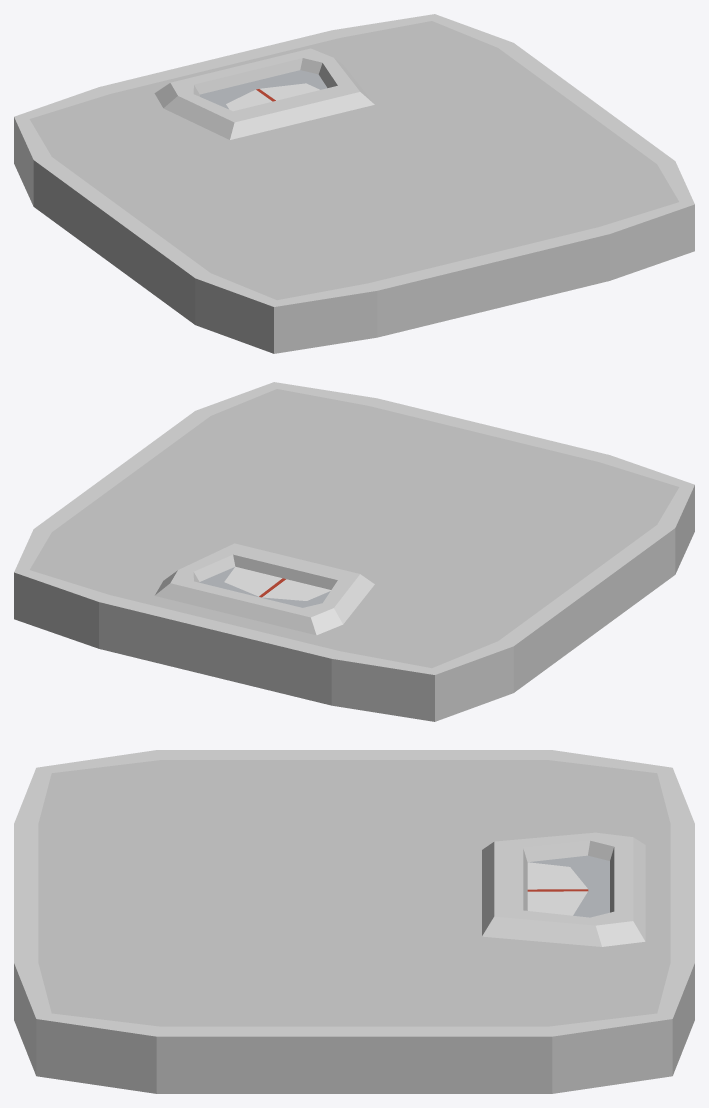
Rendered from SM_Prop_Scales_01.fbx.
3 views of the same model, one above another, from view 1: azimuth 30°, elevation 25°; view 2: azimuth 150°, elevation 25°; view 3: azimuth 270°, elevation 25° (orthographic). The views are drawn at different scales.
Visible parts, largest first — view 1: SM_Prop_Scales_01; view 2: SM_Prop_Scales_01; view 3: SM_Prop_Scales_01.
Part boxes in pixels (x1,y1,x2,y2): SM_Prop_Scales_01: (14,14,694,353); SM_Prop_Scales_01: (14,382,694,721); SM_Prop_Scales_01: (14,750,694,1093).
Bounding box in the file's own units: 41.76 × 4.86 × 41.93.
